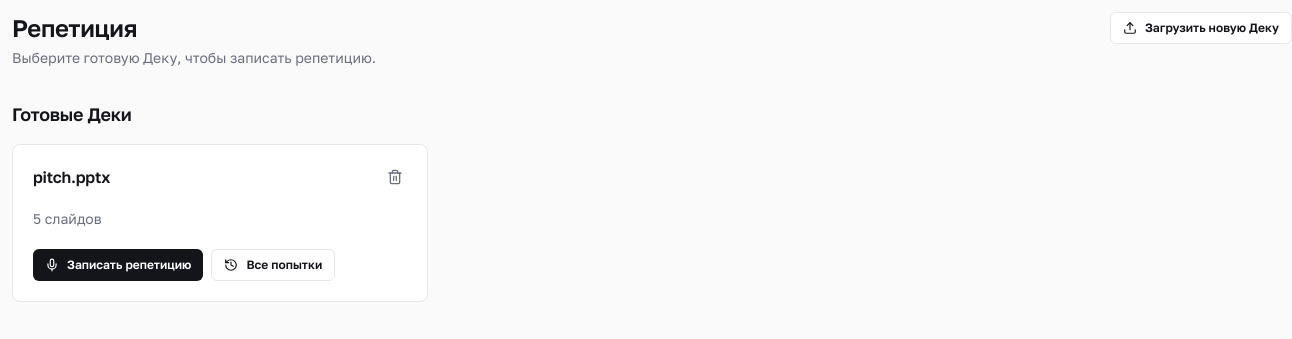
Test: RehearsalPage › requires confirmation before deleting a deck card
Expected: the heading "pitch.pptx" is shown, [33,165,110,189]
Click the button named "Удалить Деку". click: (395, 177)
box: [383,165,407,189]
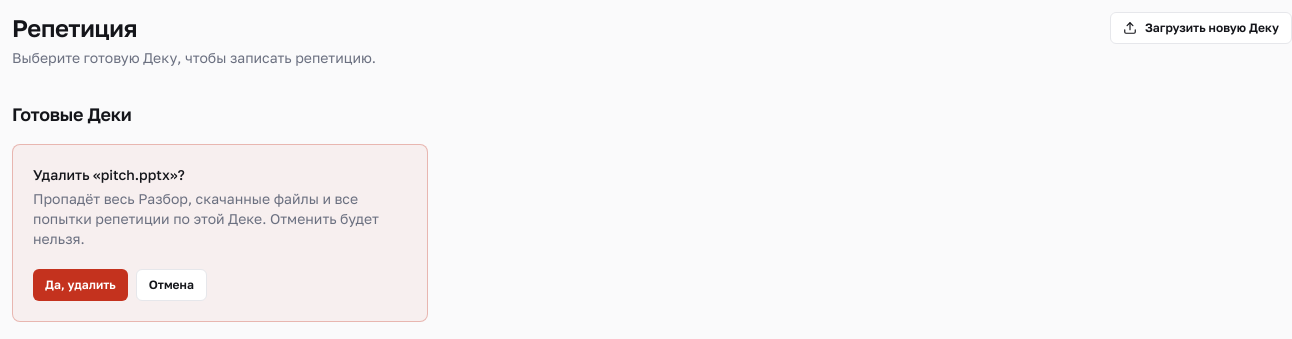
Expected: the text "Удалить «pitch.pptx»?" is shown, [33,166,185,183]
Expected: the text "Пропадёт весь Разбор, скачанные файлы и все попытки репетиции" is shown, [33,190,379,247]
